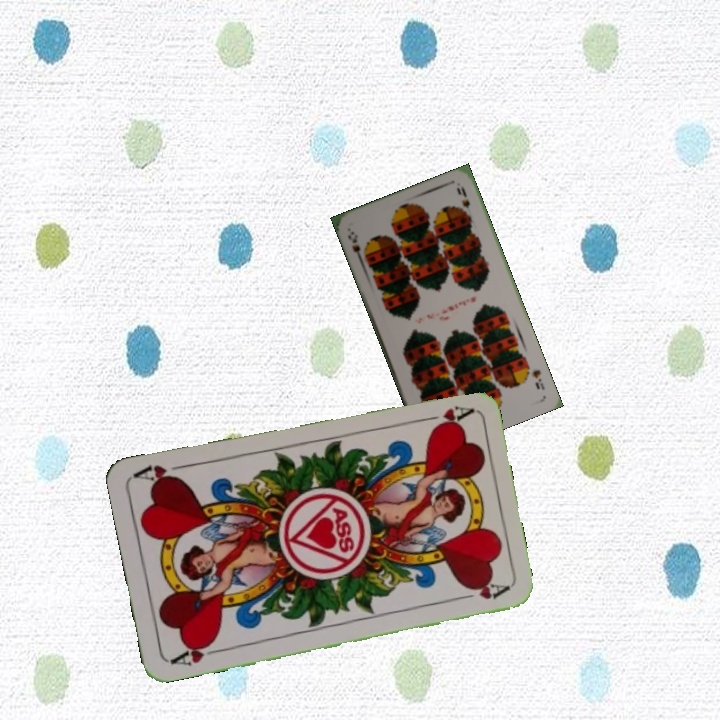HA: (166, 637, 225, 668), (415, 402, 474, 432)
S9: (344, 227, 366, 265), (528, 365, 547, 392)
